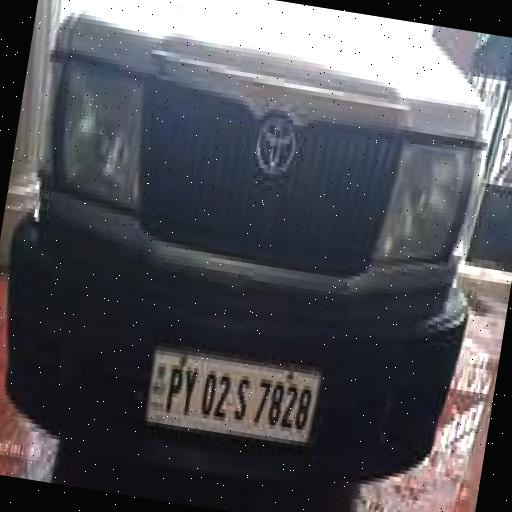license_plate`: (142, 337, 320, 442)
